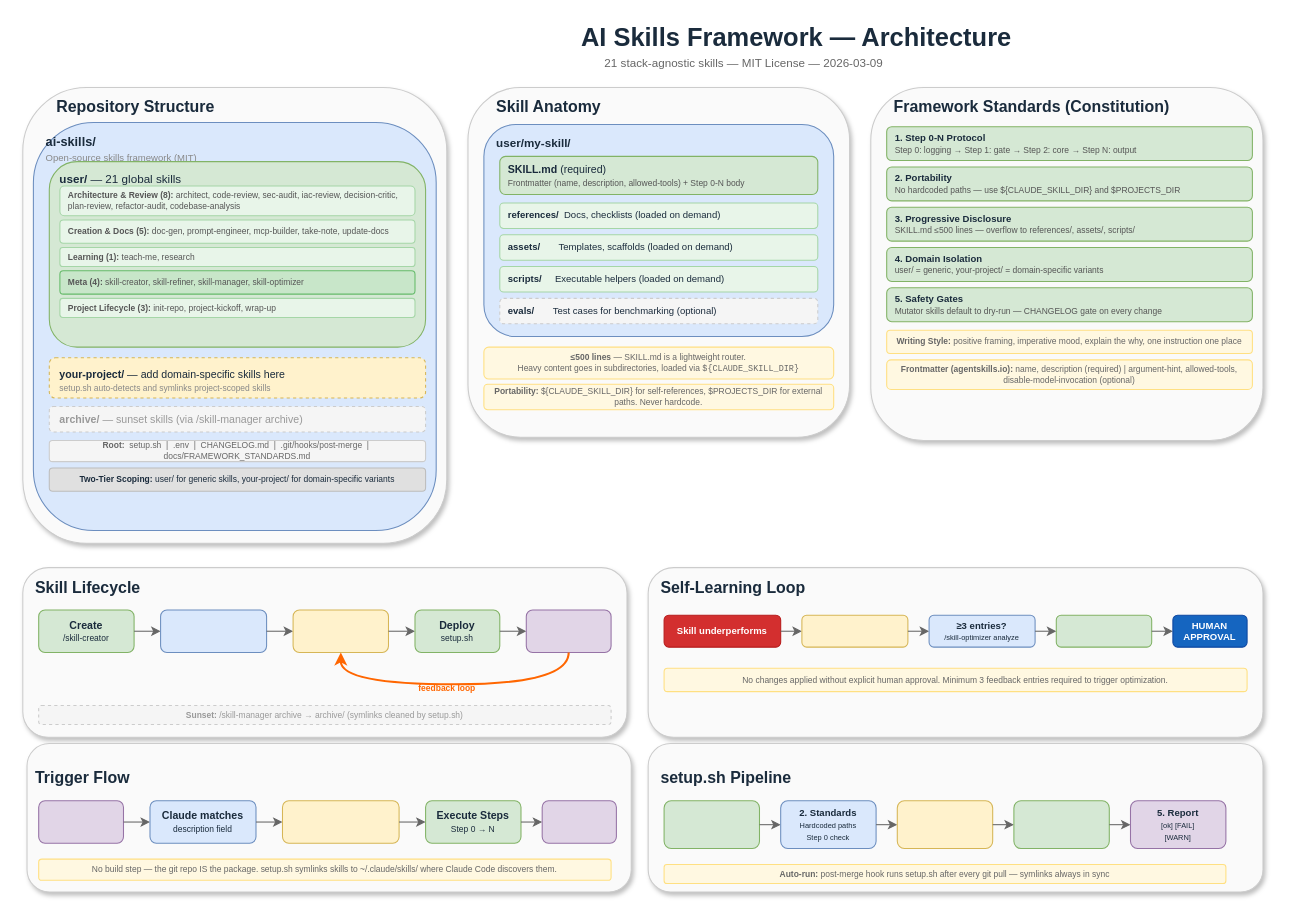
This 1292x918 diagram has some shape labels left out. Here are the shapes that lost their labels. From the top down, the centre of each, then its label:
the point at 213,630: Evaluate with-skill vs baseline
the point at 340,630: Refine /skill-refiner
the point at 568,630: Monitor usage log
the point at 854,630: Log feedback /skill-manager feedback
the point at 1103,630: Generate V2 skill-creator A/B test
the point at 80,821: User types /architect
the point at 340,821: SKILL.md injected into context window
the point at 578,821: Log usage ~/.claude/skill-usage.log
the point at 711,824: 1. Validate Spec check every SKILL.md
the point at 944,824: 3. Environment Generate skills-env.sh
the point at 1061,824: 4. Symlink ~/.claude/skills/ + project .claude/
